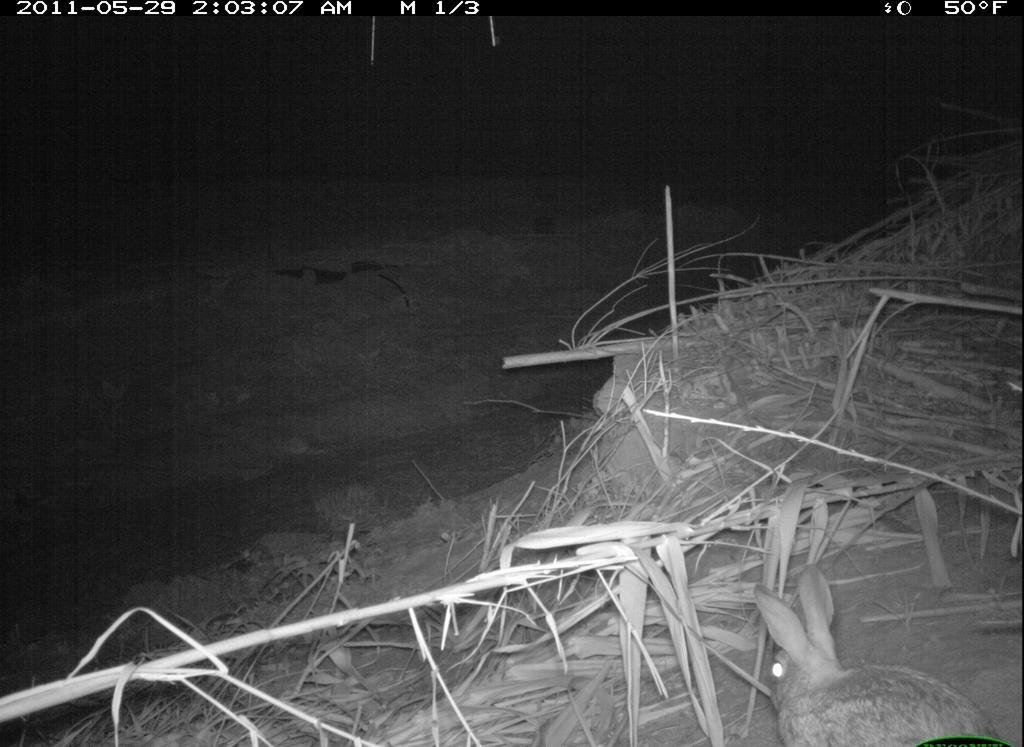rabbit: (740, 557, 1005, 745)
